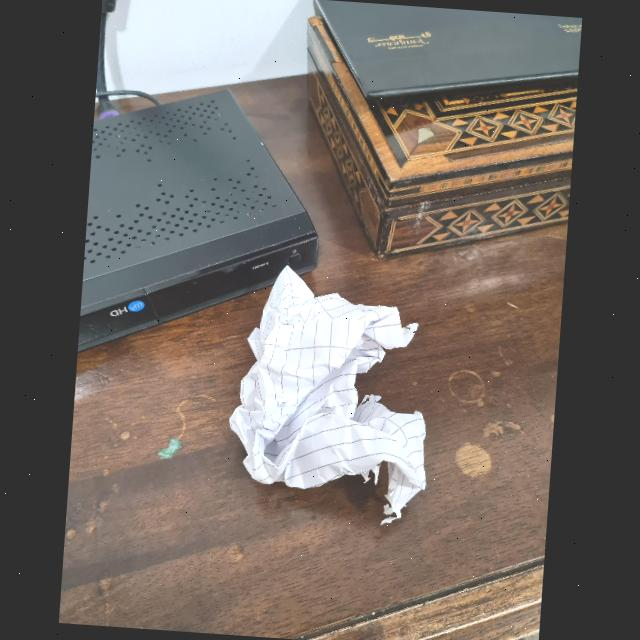trash: (222, 264, 440, 522)
